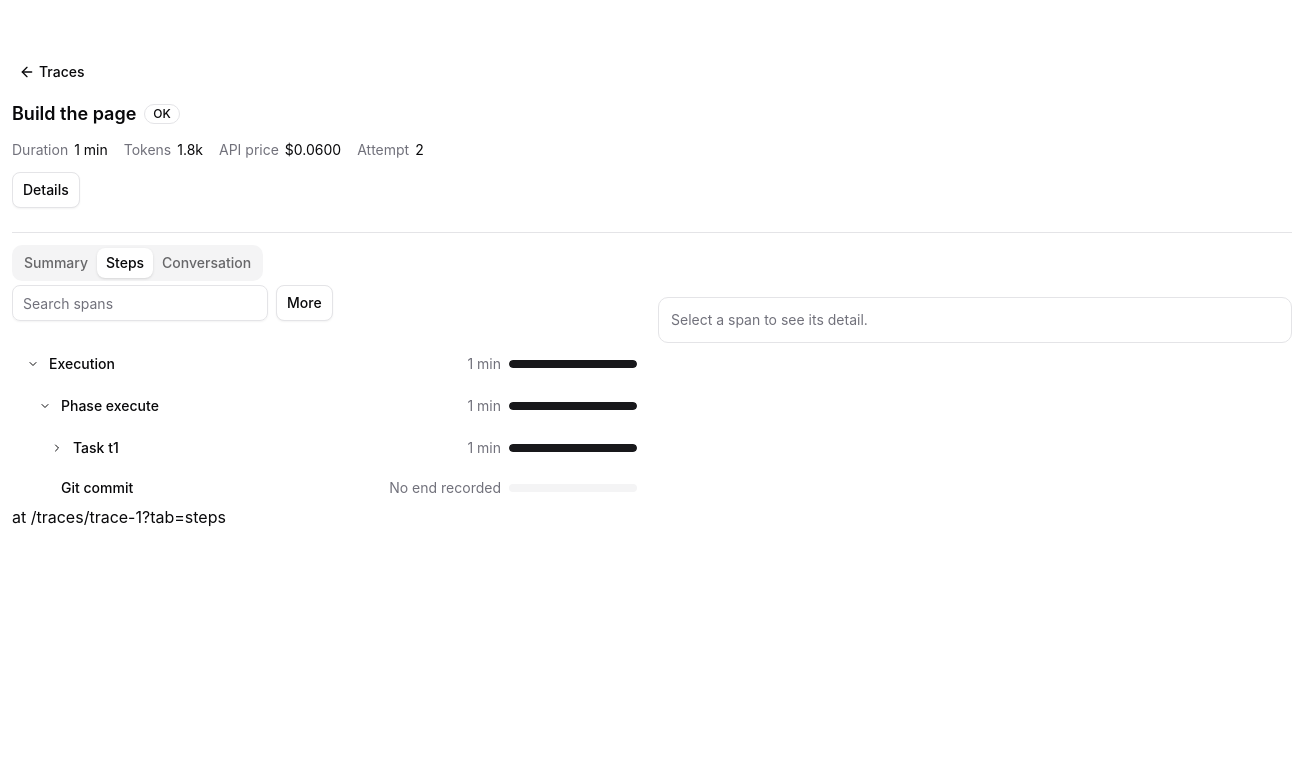
Scenario: TraceScreen timeline › shows the duration and no tokens or cost on a row
The image size is (1292, 784).
Expected: the element named "Spans" is shown, [12, 345, 646, 505]
Click the button "More" at (304, 303), box [276, 285, 333, 321]
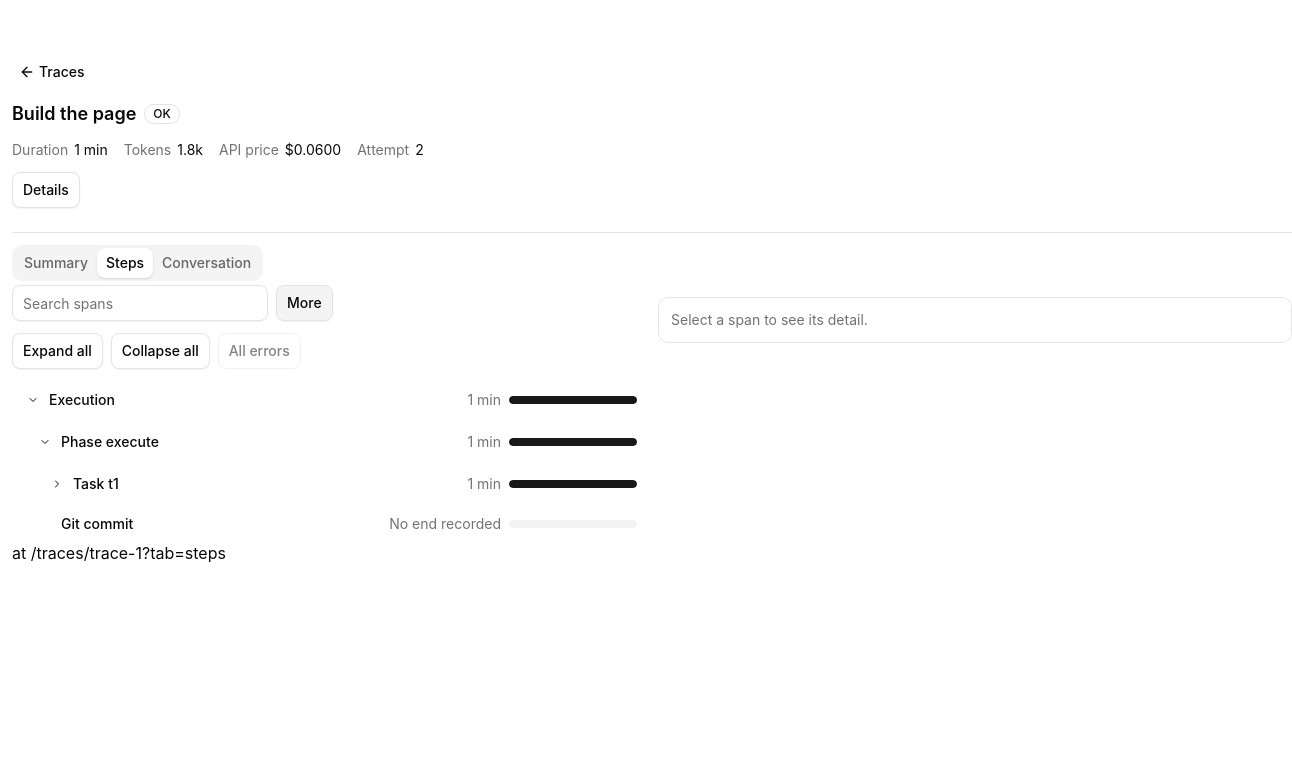
Click the button "Expand all" at (57, 351), box [12, 333, 103, 369]
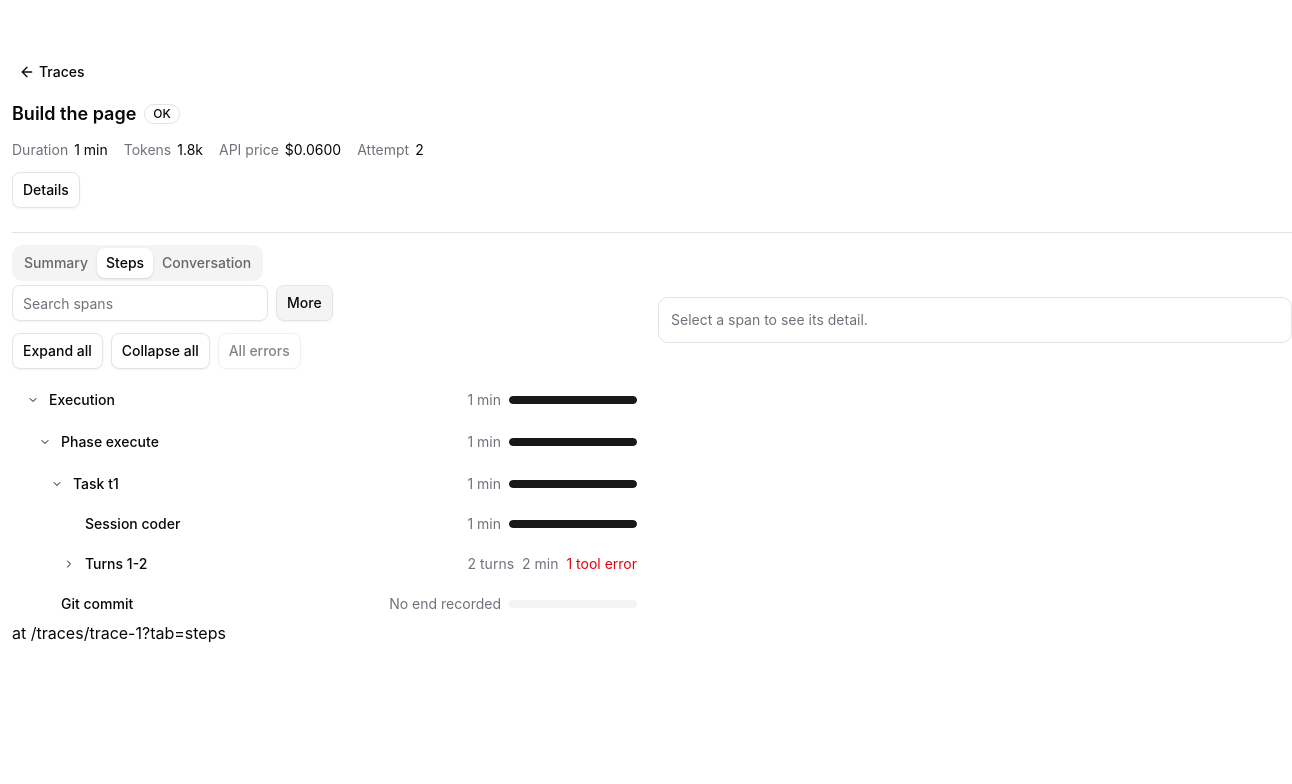
Click the button named "Expand Turns 1-2" at (69, 564), box [57, 552, 81, 576]
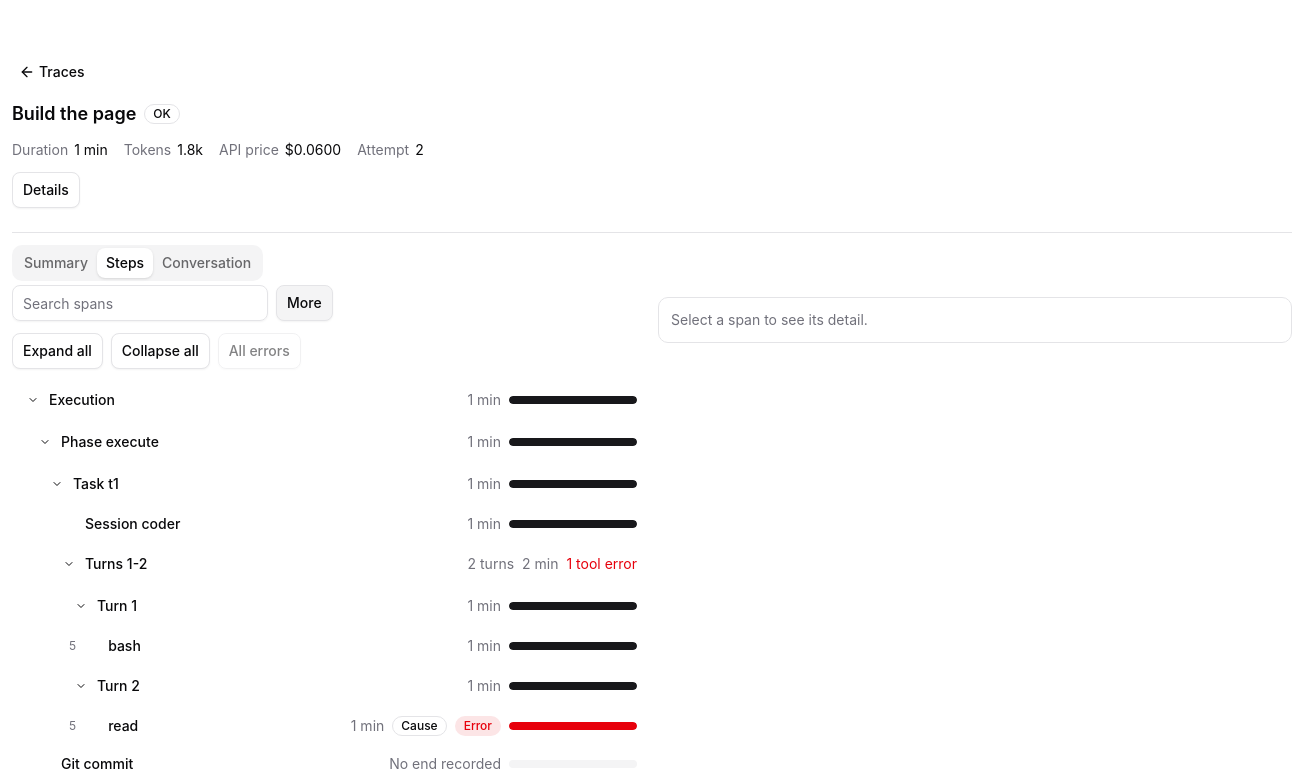
Expected: the text "1 min" in the row of "Turn 1" is shown, [467, 597, 501, 614]
